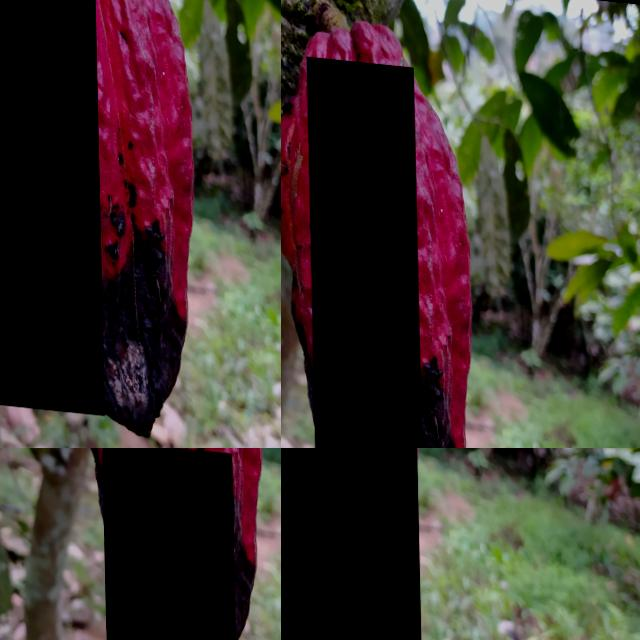Fitoftora: (281, 448, 419, 640), (100, 448, 235, 640), (281, 204, 345, 448)
Monilia: (0, 0, 102, 409)
Sana: (306, 51, 419, 448), (198, 459, 268, 593), (18, 526, 55, 618), (0, 570, 19, 620)
